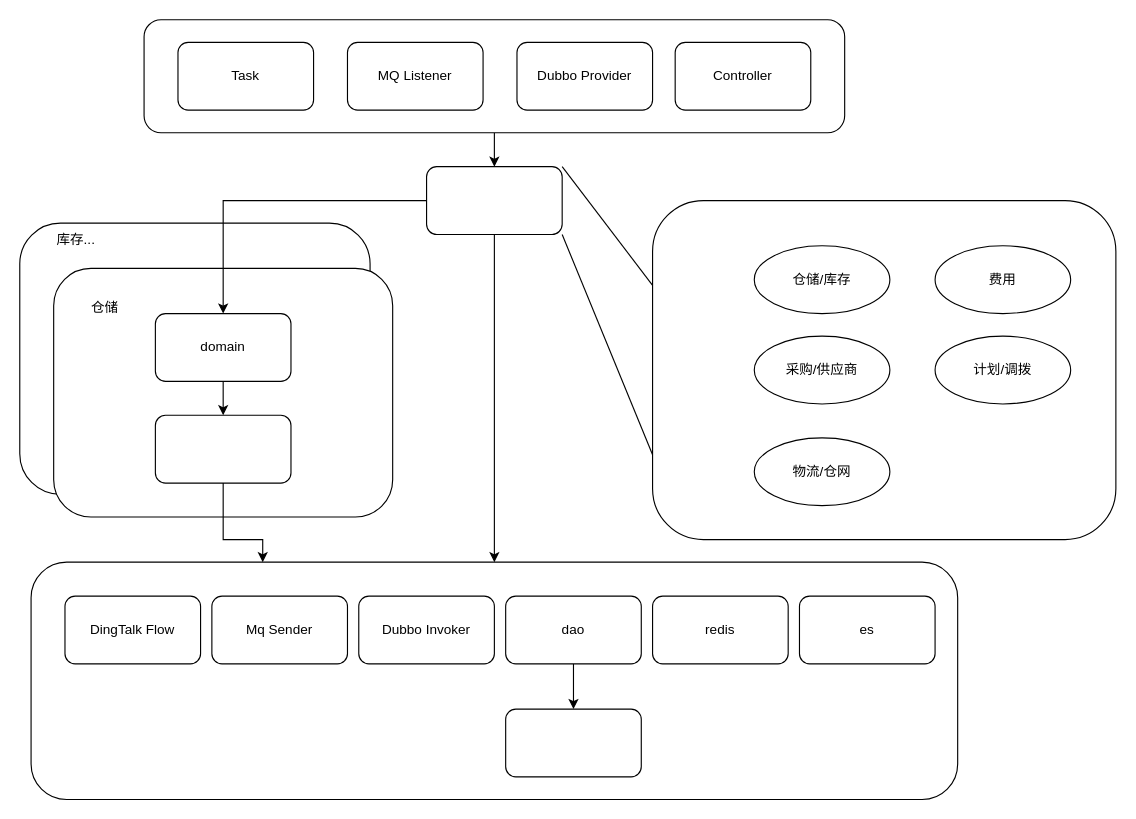
Image size: 1136x819. Some labels were removed from this diagram. The centre of each missing label's shape, as x and y in pixels:
mapper: (573,742)
repository: (222,448)
Service: (493,200)
